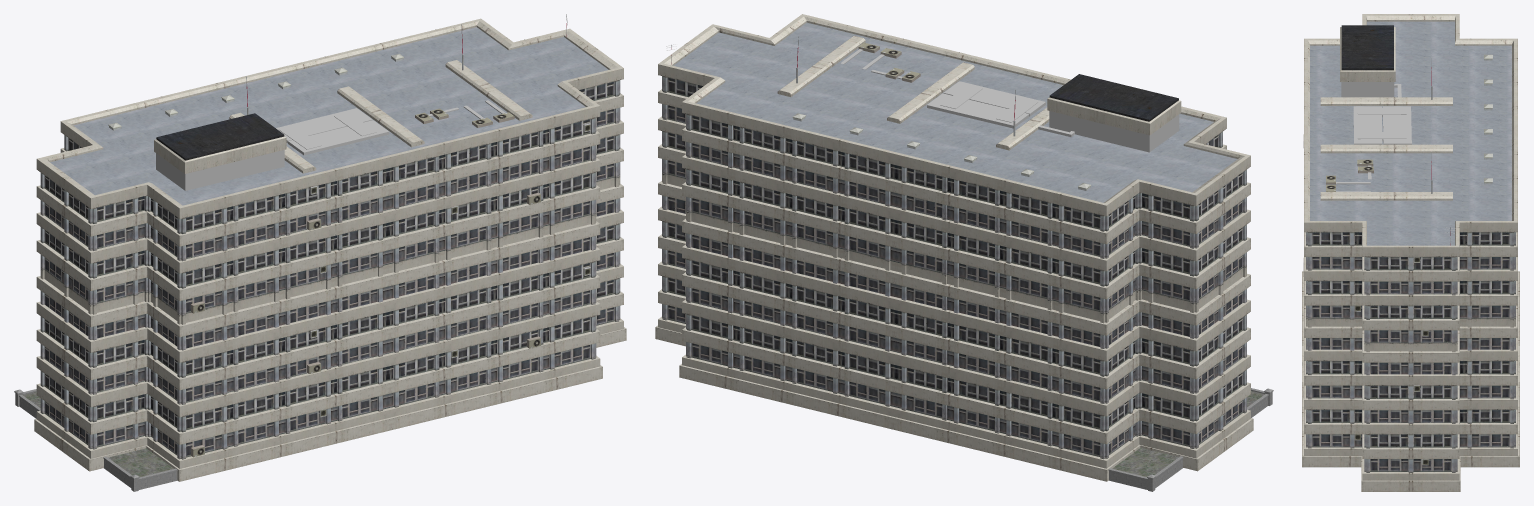
Rendered from u2NBuild1.gltf.
3 renders of one model, left to right at view 1: azimuth 30°, elevation 25°; view 2: azimuth 150°, elevation 25°; view 3: azimuth 270°, elevation 25°, orthographic. The views are drawn at different scales.
Visible parts, largest first — view 1: u2NBuild1; view 2: u2NBuild1; view 3: u2NBuild1.
Boxes of the visible parts, x1,y1,x2,y2 form: u2NBuild1: (14,14,626,491); u2NBuild1: (655,14,1273,491); u2NBuild1: (1302,14,1519,491).
Bounding box in the file's own units: 23.8 × 13.51 × 9.33.
